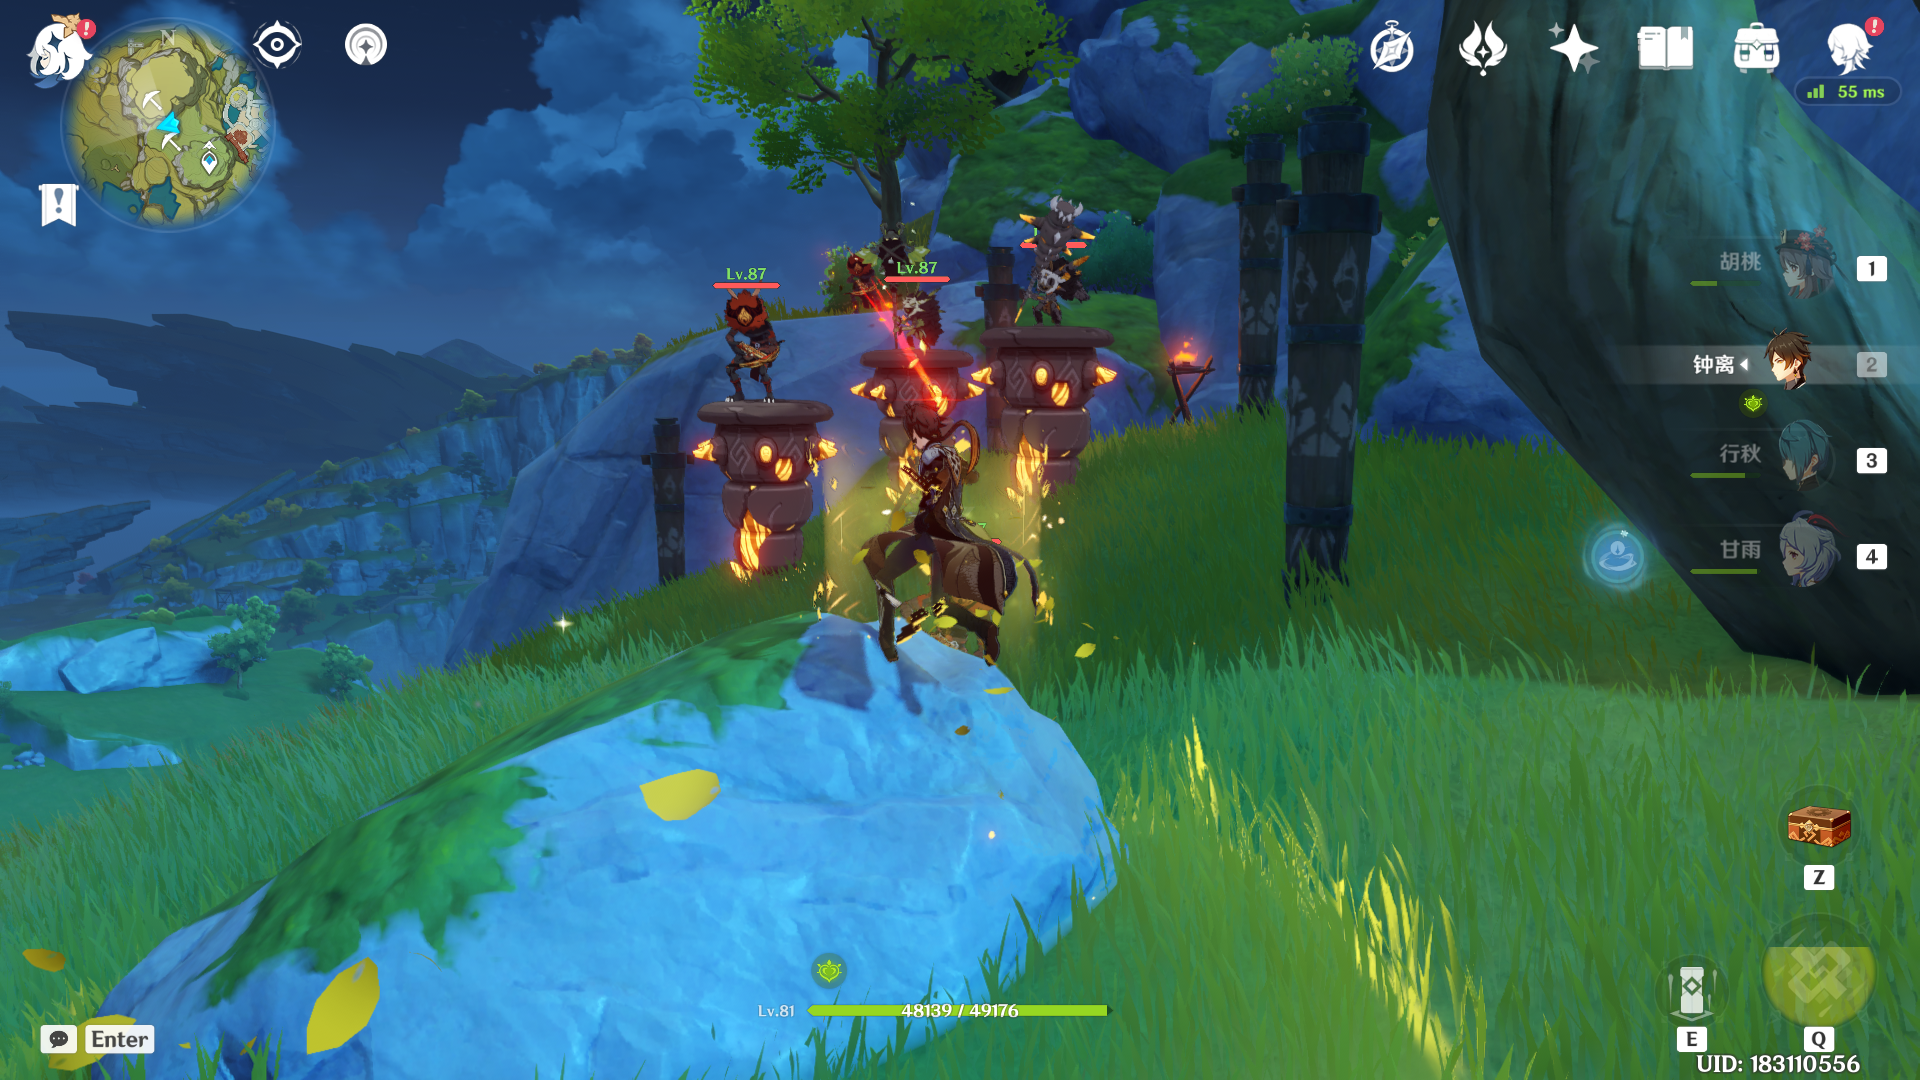character: (816, 349, 1044, 675)
hili: (996, 185, 1106, 332), (702, 272, 800, 427), (862, 243, 967, 345)
